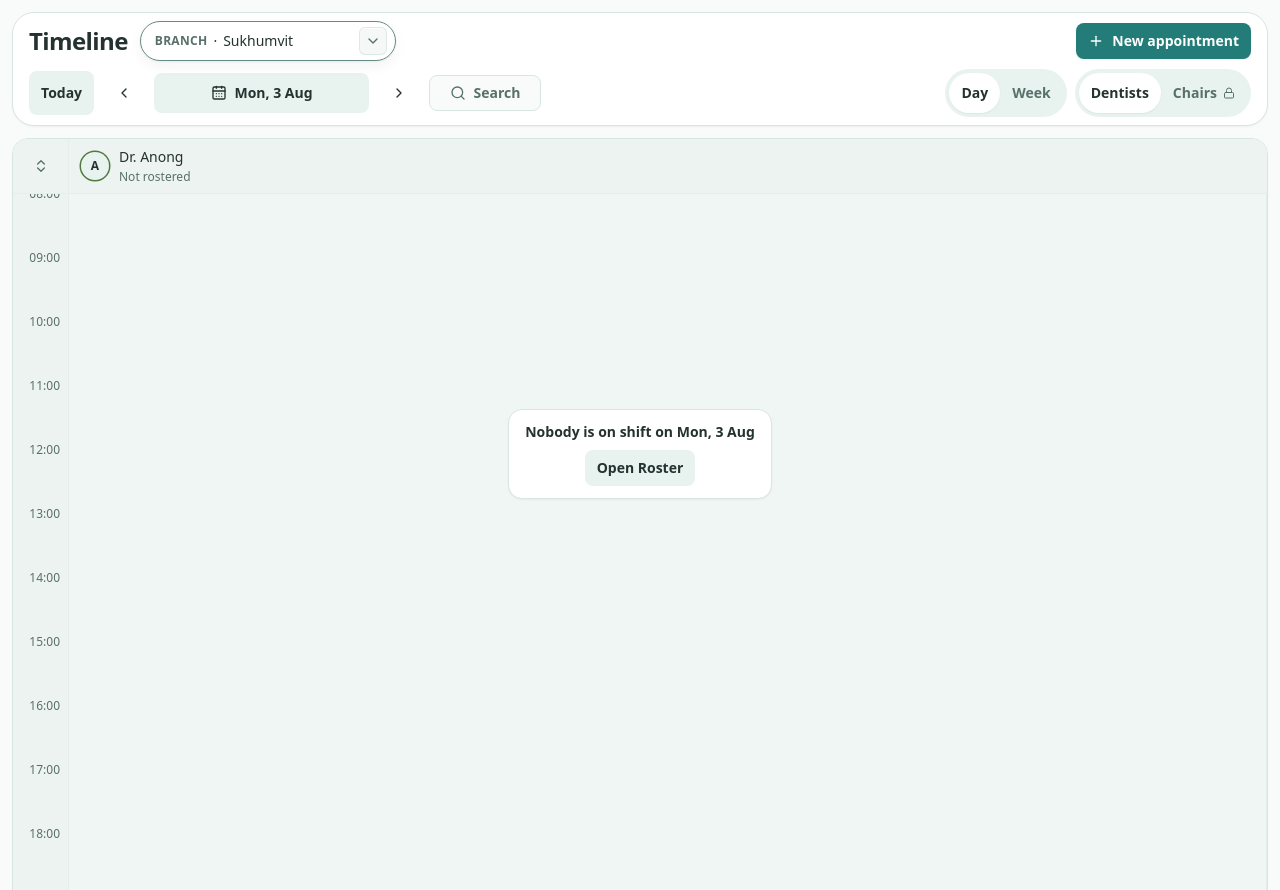
TimelinePage › requires the receptionist to choose the dentist and time when booking from the toolbar
Expected: the text "Dr. Anong" is shown, [119,147,184,166]
Click the button "New appointment".
click(1164, 41)  # box [1076,23,1251,59]
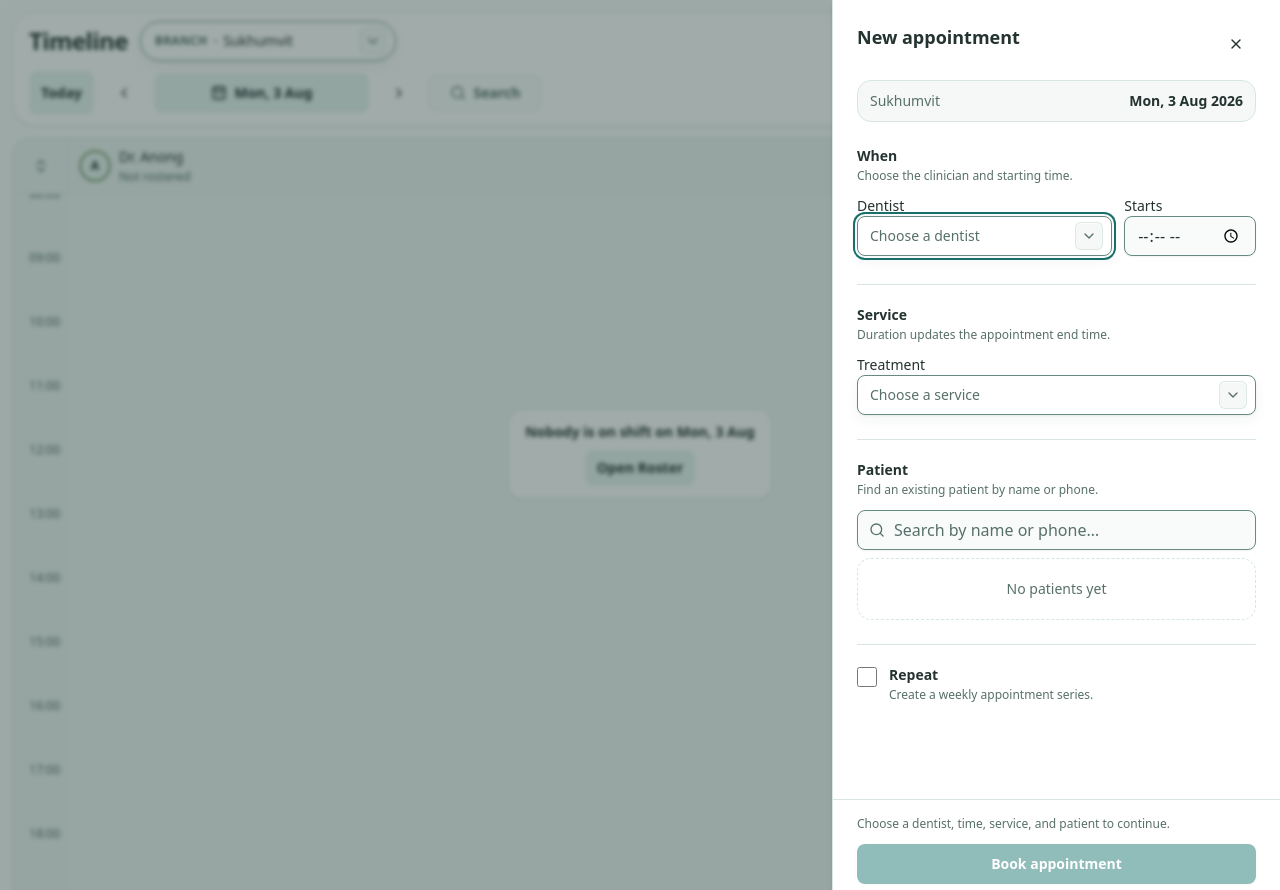
Now the dialog shows "New appointment", box [857,25,1020,49]
Now the dropdown labelled "dentist" reads "Choose a dentist", box [857,216,1112,256]
Now the time field labelled "Starts" is empty, box [1124,216,1256,256]
